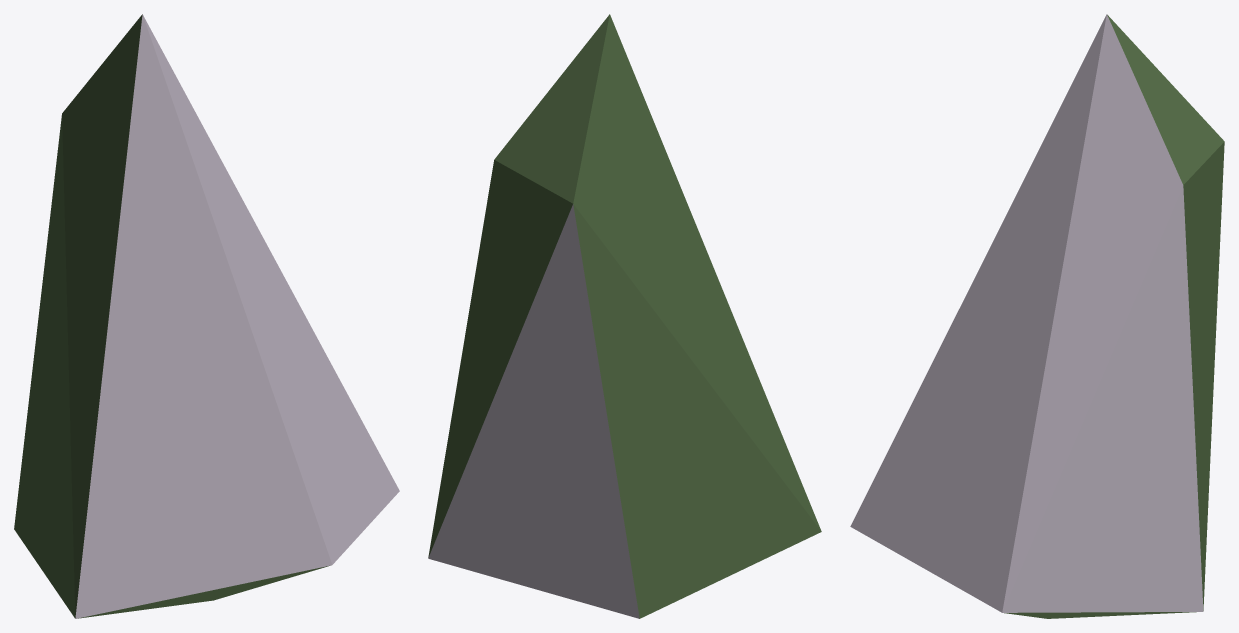
File: PineTree_Snow_3.lod4.glb
3 views of the same model, side by side, from view 1: azimuth 30°, elevation 25°; view 2: azimuth 150°, elevation 25°; view 3: azimuth 270°, elevation 25° (orthographic). The views are drawn at different scales.
Visible parts, largest first — view 1: PineTree_Snow_3; view 2: PineTree_Snow_3; view 3: PineTree_Snow_3.
Boxes of the visible parts, x1,y1,x2,y2 form: PineTree_Snow_3: [14, 14, 399, 618]; PineTree_Snow_3: [428, 14, 821, 618]; PineTree_Snow_3: [850, 14, 1224, 618].
Bounding box in the file's own units: 2.11 × 3.39 × 1.97.
